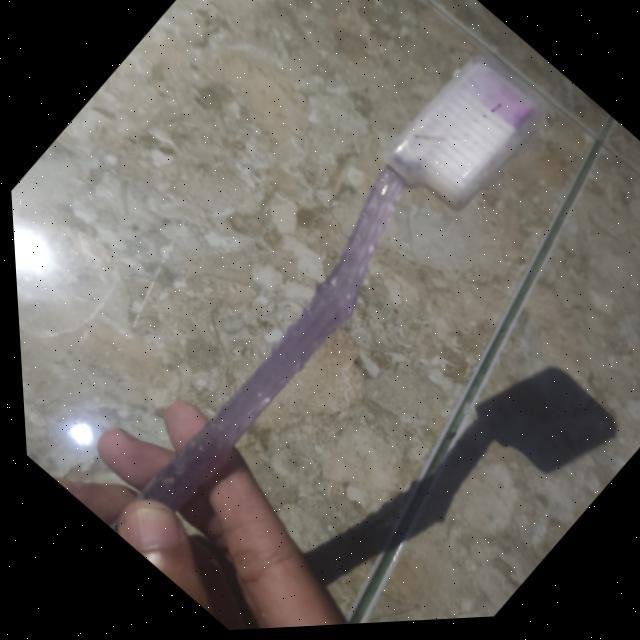toothbrush: (44, 36, 596, 596)
